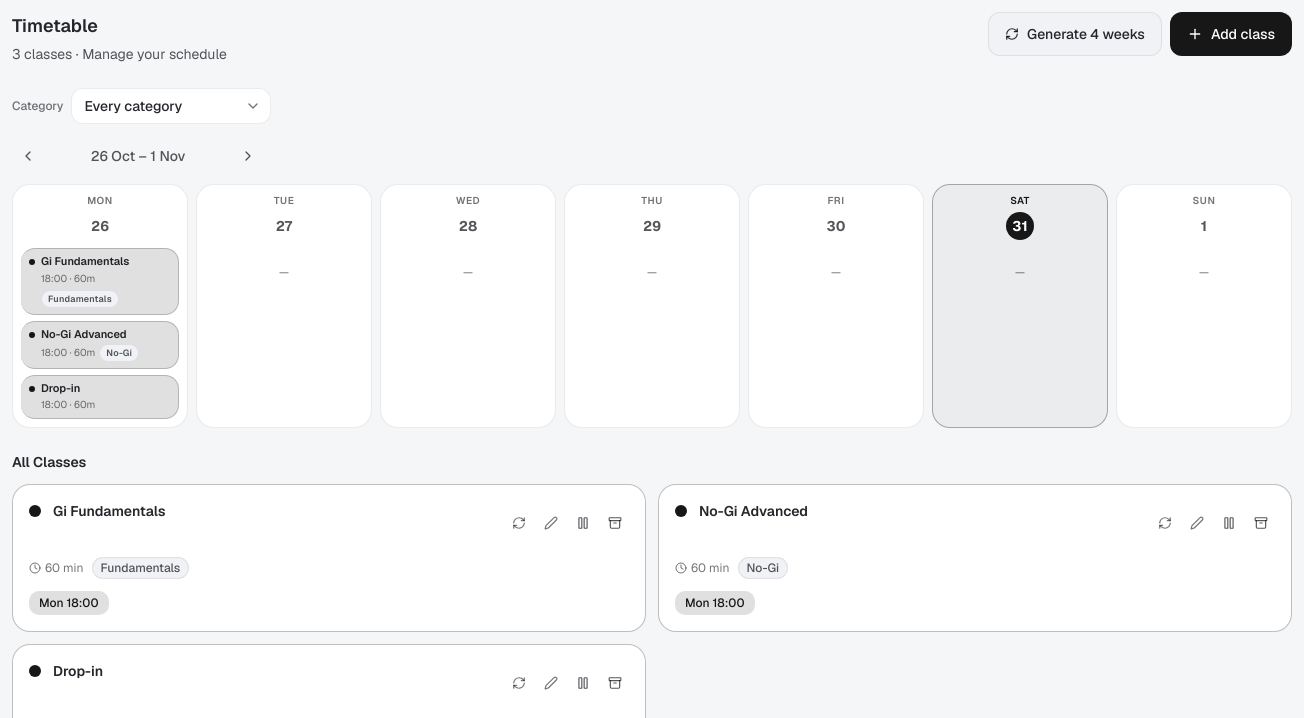
it: timetable — category chip and filter › filters the timetable by category, and Uncategorised shows the rest
Select "No-Gi" in the dropdown with test id "timetable-category-filter": (171, 106) [71, 88, 271, 124]
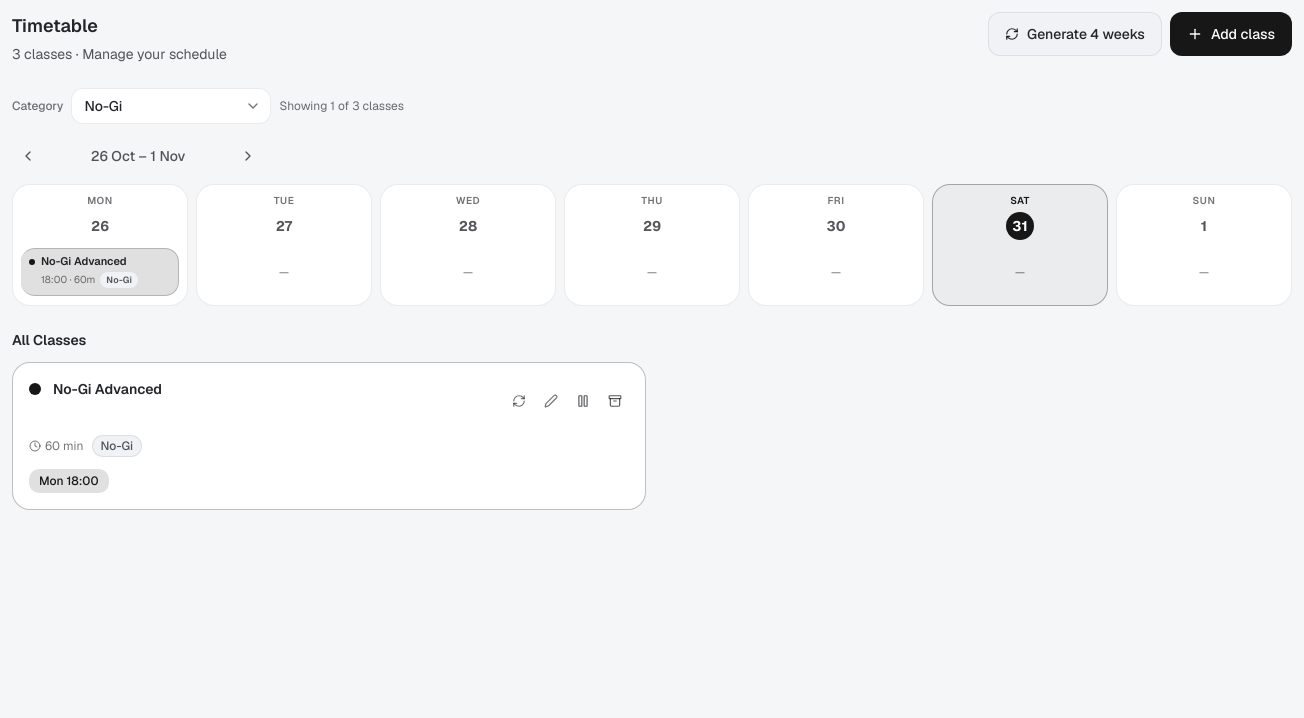
expect the button "Gi Fundamentals" is gone: met
expect the button "Drop-in" is gone: met
expect the text with test id "timetable-category-count" reads "Showing 1 of 3 classes": met, box [279, 98, 404, 114]
Select "Uncategorised" in the dropdown with test id "timetable-category-filter": (171, 106) [71, 88, 271, 124]
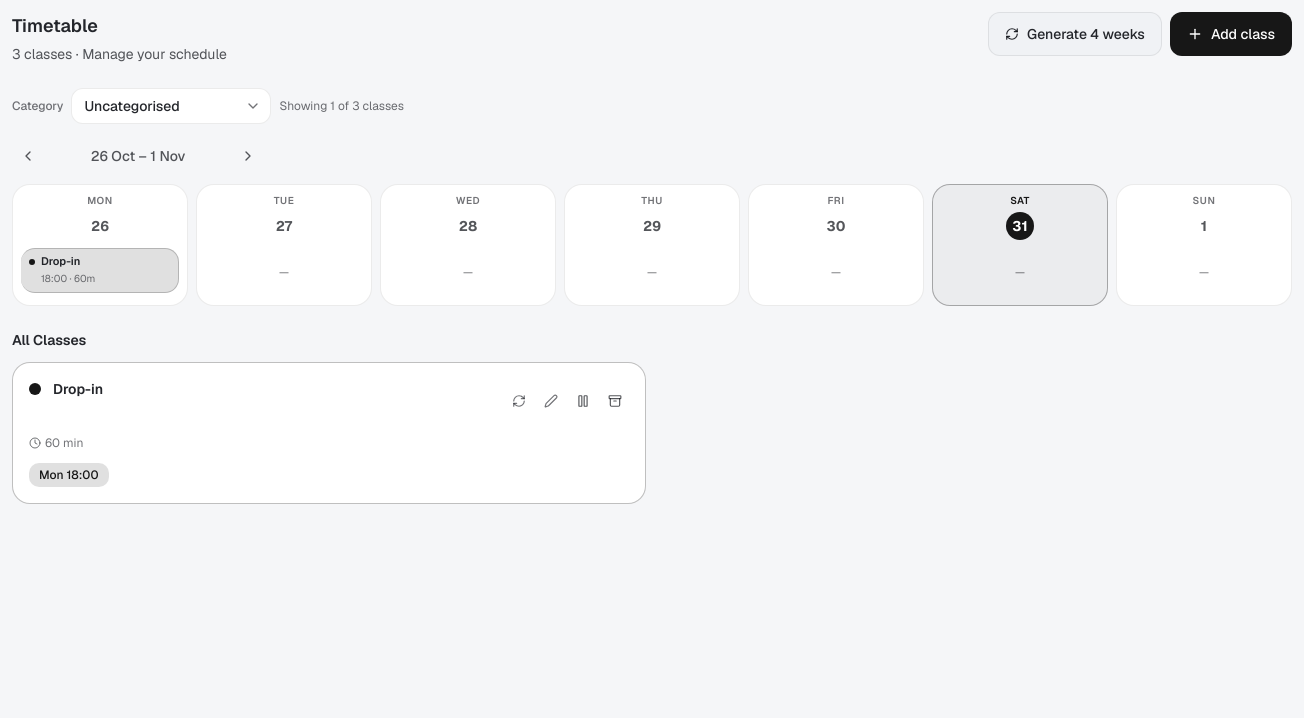
expect the text "Drop-in" is shown: met, box [41, 254, 80, 268]
expect the button "No-Gi Advanced" is gone: met
